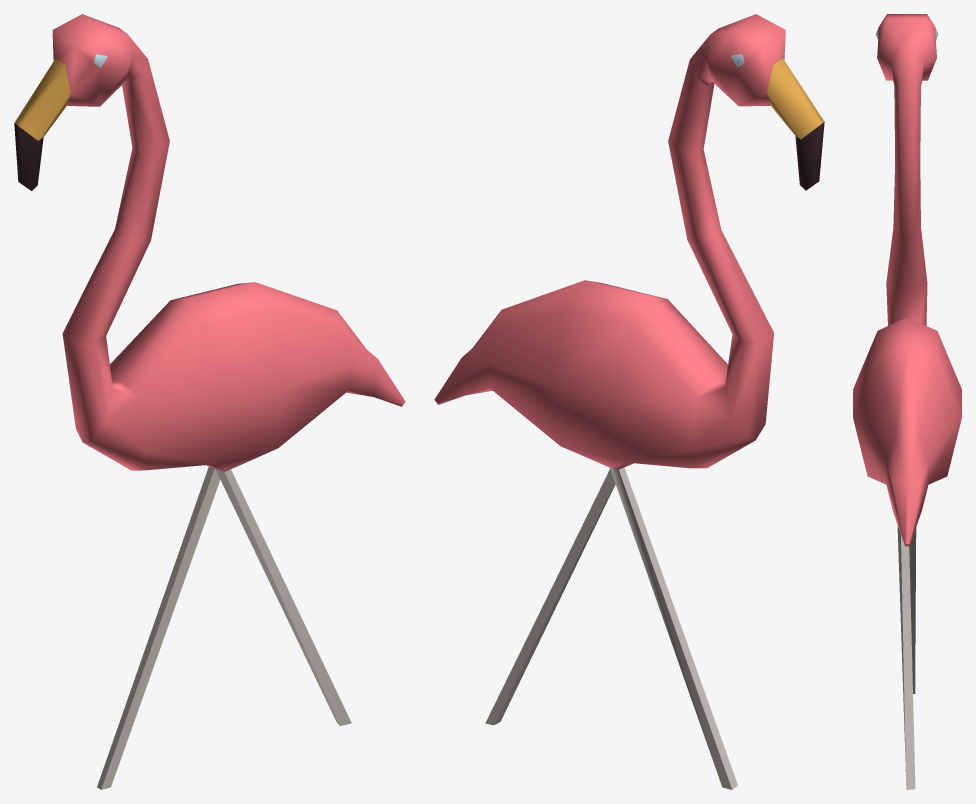
File: SM_Prop_Flamingo_01.obj
3 views of the same model, side by side, from view 1: azimuth 30°, elevation 25°; view 2: azimuth 150°, elevation 25°; view 3: azimuth 270°, elevation 25° (orthographic). The views are drawn at different scales.
Visible parts, largest first — view 1: SM_Prop_Flamingo_01_Mat_SwatchOverlay_PolygonTown_01_Inst; view 2: SM_Prop_Flamingo_01_Mat_SwatchOverlay_PolygonTown_01_Inst; view 3: SM_Prop_Flamingo_01_Mat_SwatchOverlay_PolygonTown_01_Inst.
Part boxes in pixels (x1,y1,x2,y2): SM_Prop_Flamingo_01_Mat_SwatchOverlay_PolygonTown_01_Inst: (14,14,405,789); SM_Prop_Flamingo_01_Mat_SwatchOverlay_PolygonTown_01_Inst: (434,14,824,789); SM_Prop_Flamingo_01_Mat_SwatchOverlay_PolygonTown_01_Inst: (853,14,961,789).
Bounding box in the file's own units: 0.7537 × 1.43 × 0.2117.
Materials: 1 (1 with a texture image).
